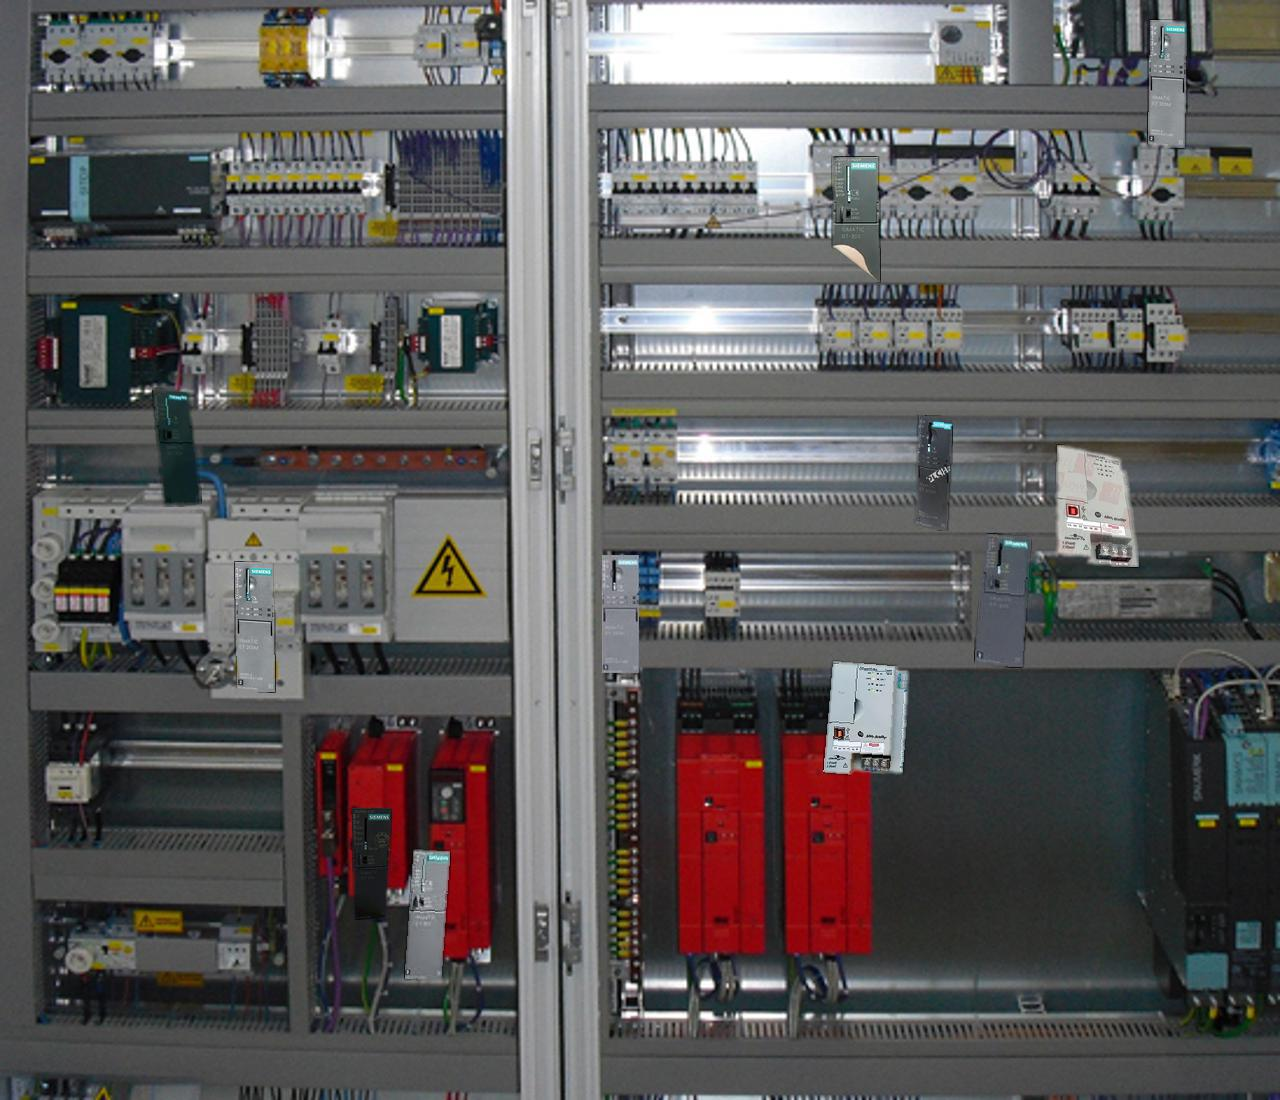AllenBradley: (1057, 445, 1139, 566), (823, 662, 907, 774)
Siemens: (975, 534, 1029, 666), (833, 157, 879, 281), (405, 850, 450, 978), (153, 390, 200, 504), (352, 808, 391, 919)
